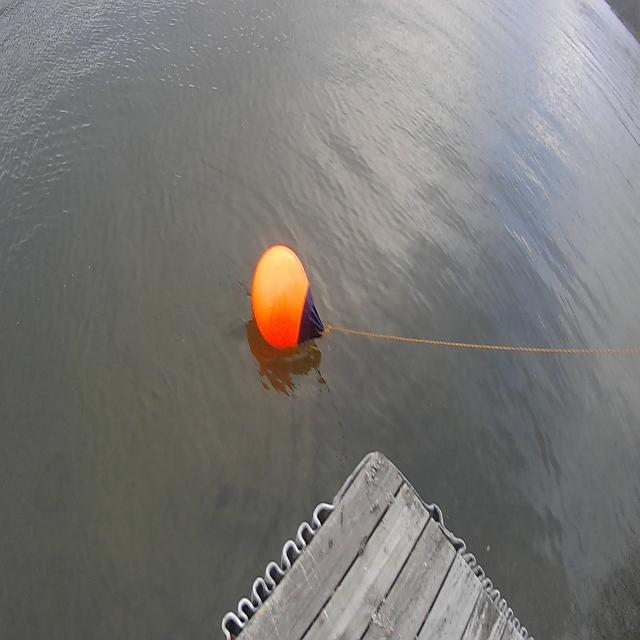Buoy: (248, 237, 331, 361)
